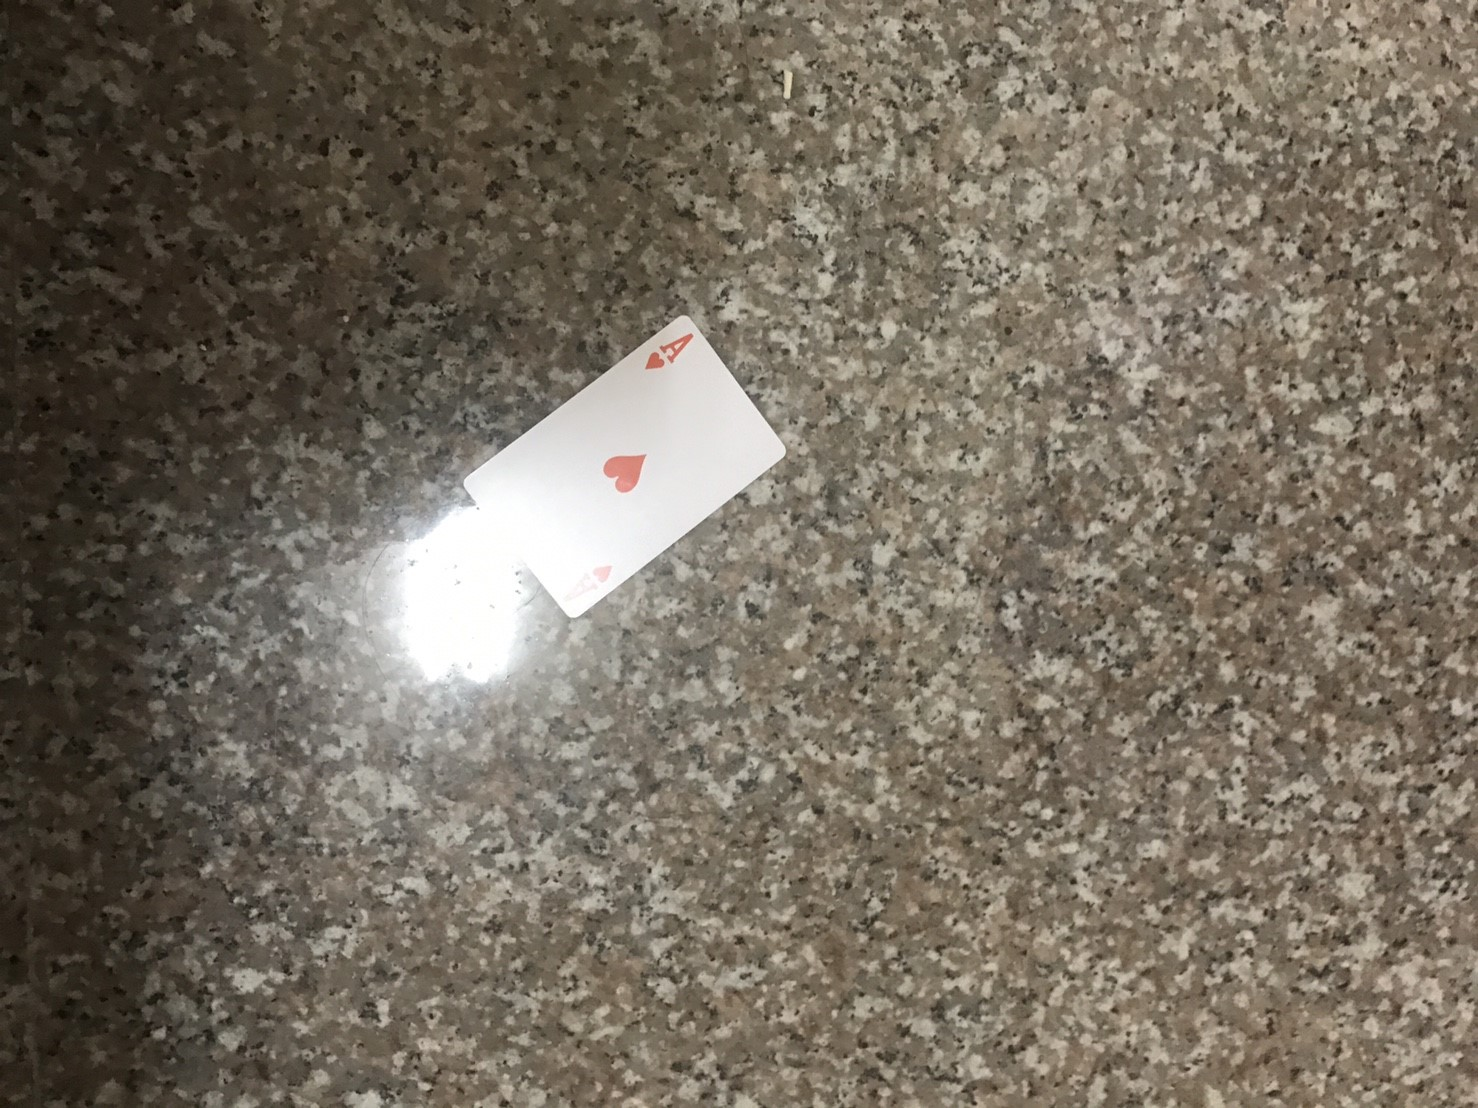hearts: (599, 440, 652, 500), (591, 561, 620, 583), (644, 348, 665, 370)
